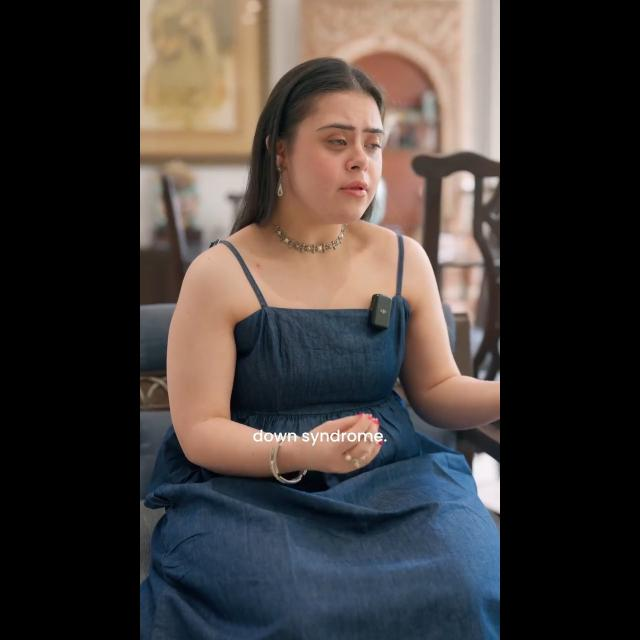dress: (154, 233, 496, 631)
ear ring: (275, 163, 289, 207)
